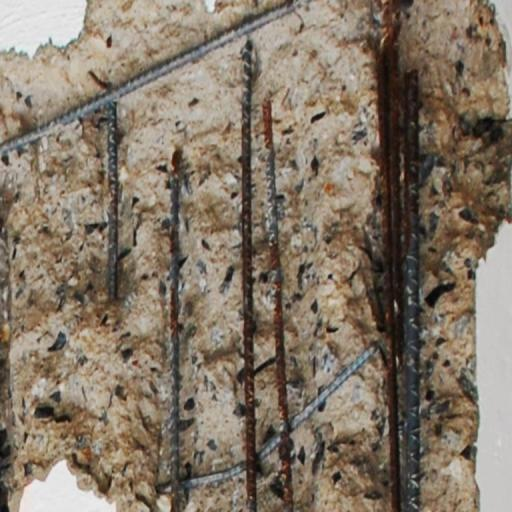spalling: (0, 7, 509, 512)
